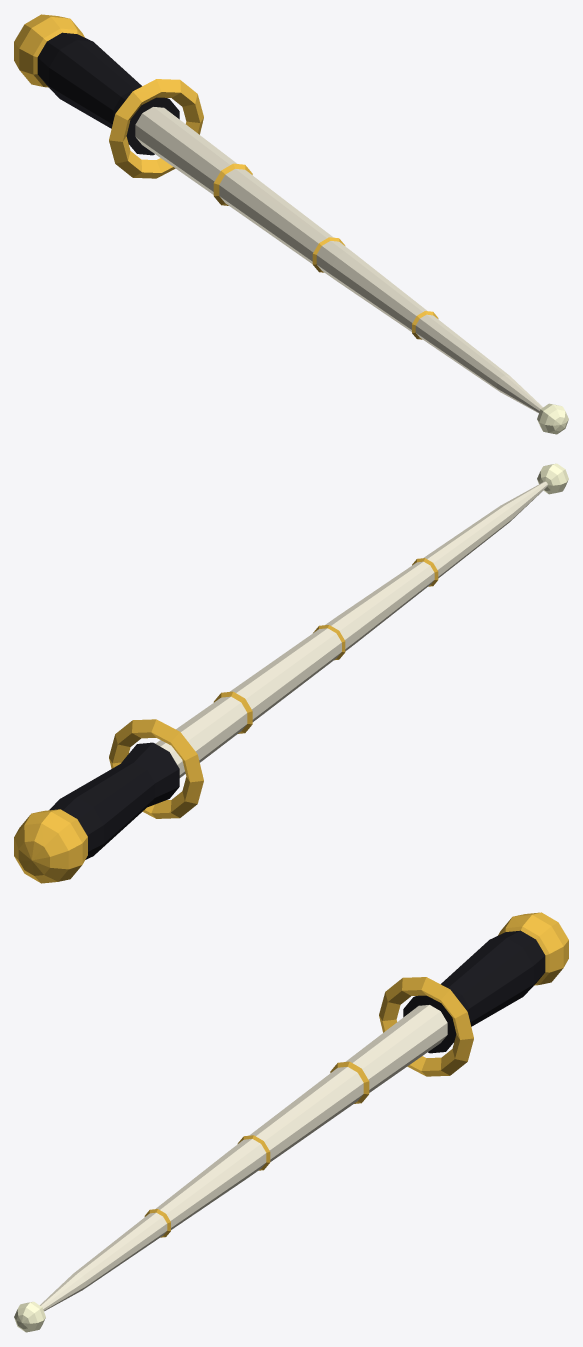
The model's file is Espada_BatutaMayor.obj.
3 renders of one model, top to bottom at view 1: azimuth 30°, elevation 25°; view 2: azimuth 150°, elevation 25°; view 3: azimuth 330°, elevation 25°, orthographic.
Visible parts, largest first — view 1: Espada_BatutaMayor; view 2: Espada_BatutaMayor; view 3: Espada_BatutaMayor.
Boxes of the visible parts, left/top/right/bottom form: Espada_BatutaMayor: left=14, top=14, right=568, bottom=434; Espada_BatutaMayor: left=14, top=463, right=568, bottom=883; Espada_BatutaMayor: left=14, top=912, right=568, bottom=1332.
Size of the model in its own units: 17.2 by 17.2 by 166.
